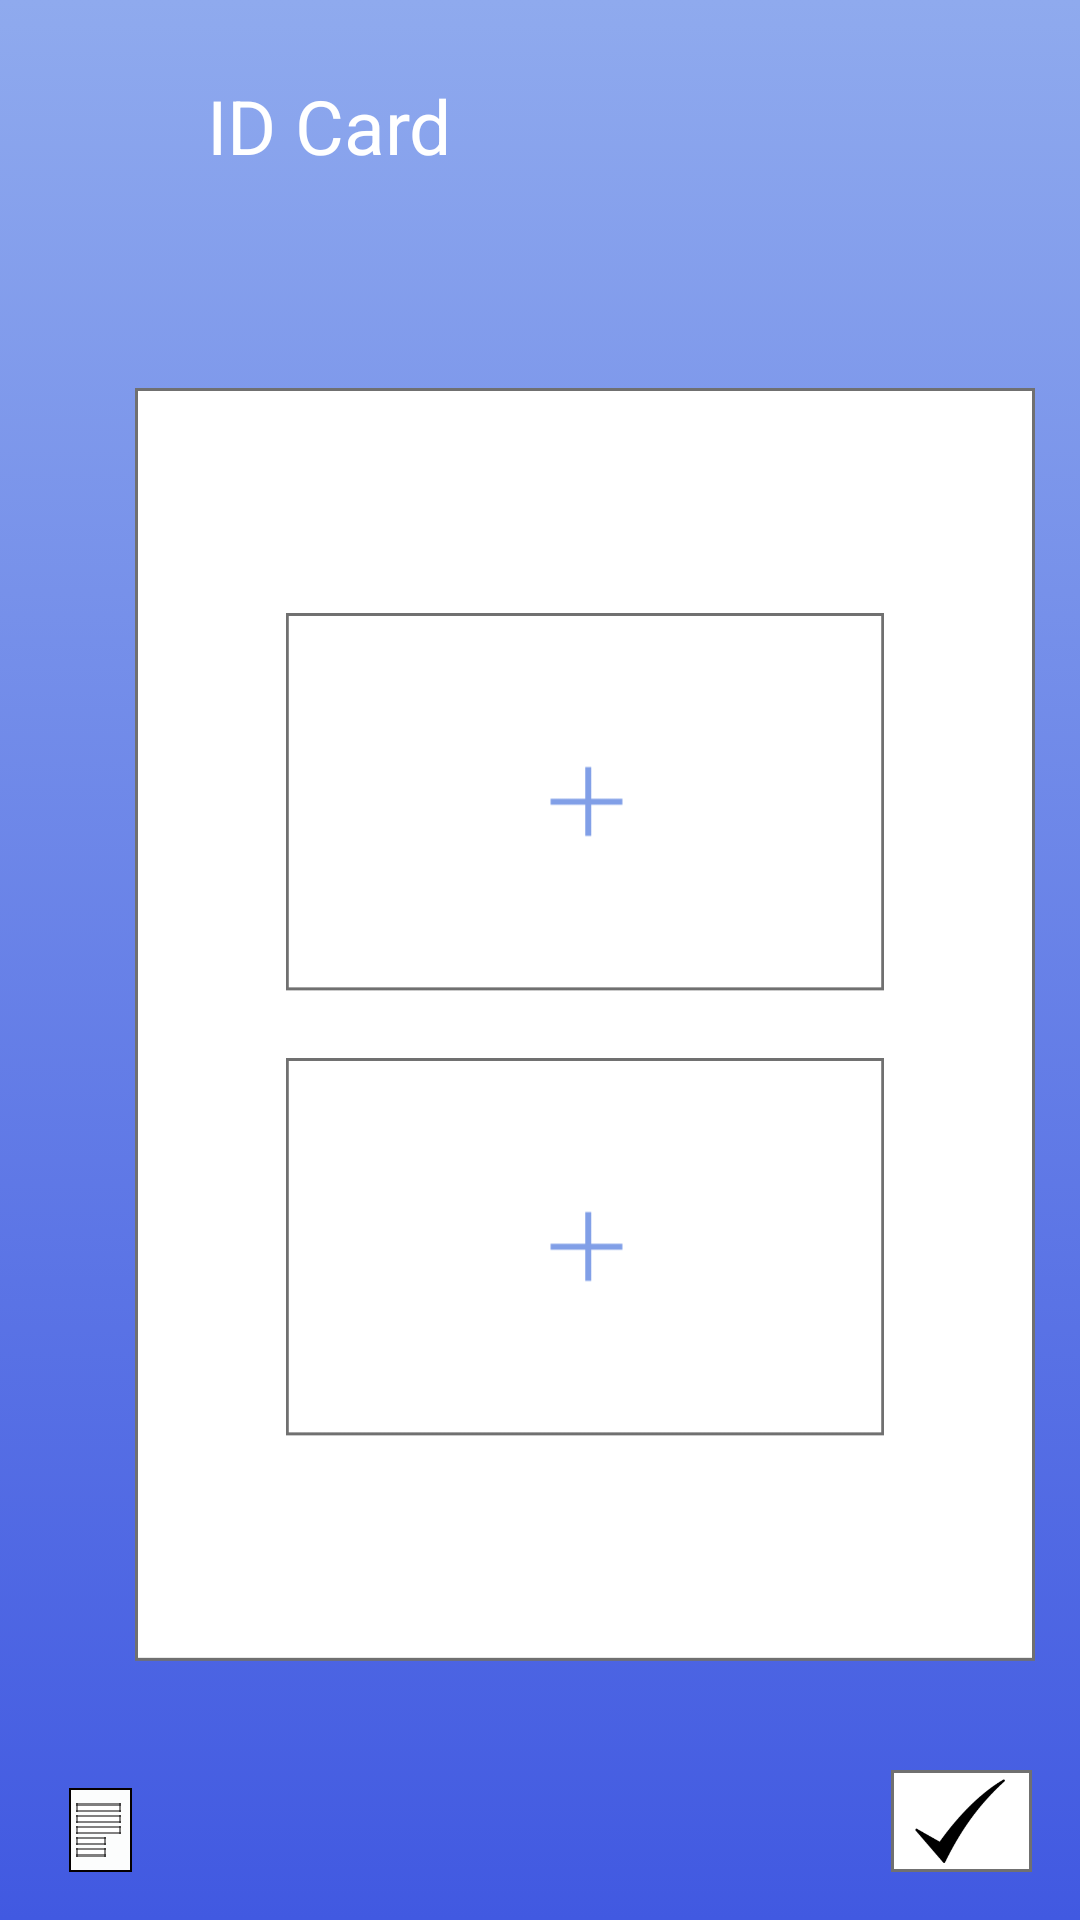

Named icons in this screenshot (1080 × 1920) and their bounding boxes, (x1, y1, x2, y2):
docs: (69, 1788, 132, 1872)
